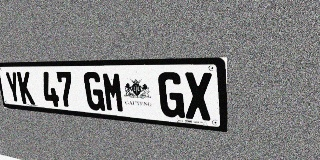4: (40, 72, 60, 107)
7: (55, 72, 76, 108)
G: (158, 72, 185, 118), (83, 72, 105, 111)
K: (17, 72, 35, 105)
M: (102, 72, 125, 113)
X: (184, 72, 213, 121)
Y: (4, 72, 22, 104)
